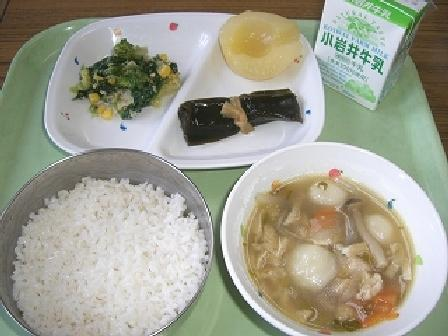Milk: (312, 0, 429, 96)
Rice: (4, 145, 213, 333)
Salad: (66, 39, 187, 123)
Soups: (240, 156, 427, 329)
cooked eggplant: (176, 82, 308, 147)
peach: (217, 7, 310, 83)
